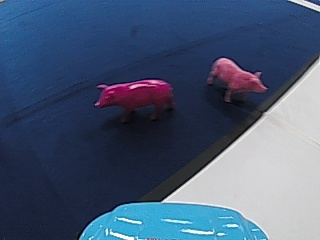pig: (92, 74, 176, 124), (207, 56, 268, 104)
